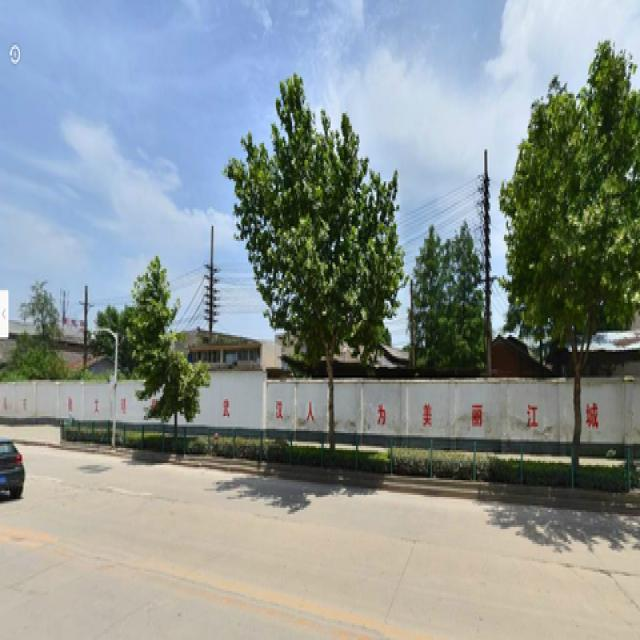meta: (239, 92, 392, 448)
